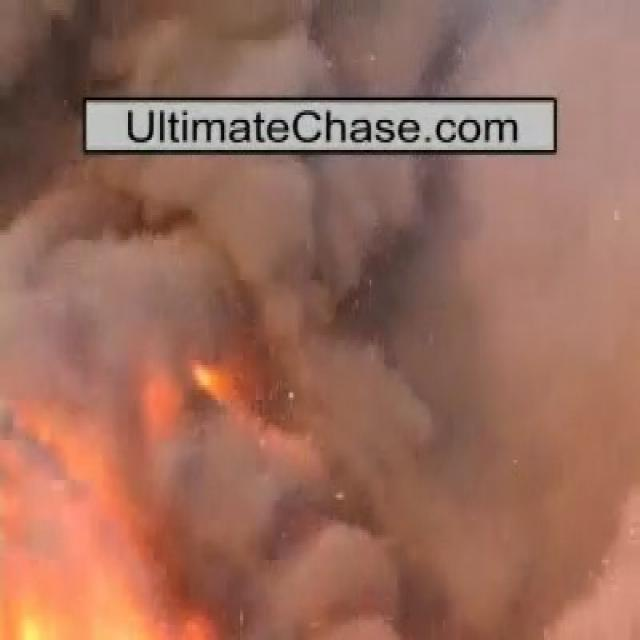smoke: (22, 164, 588, 567), (68, 7, 568, 92)
